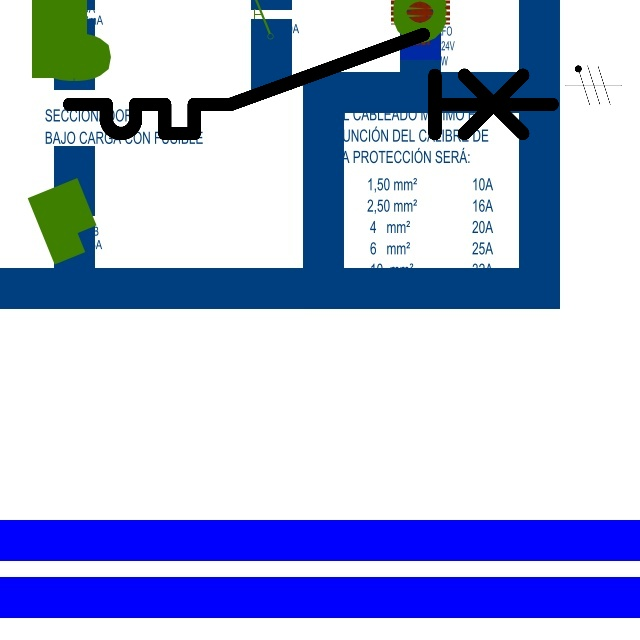interruptor_termomagnetico: (57, 22, 564, 146)
